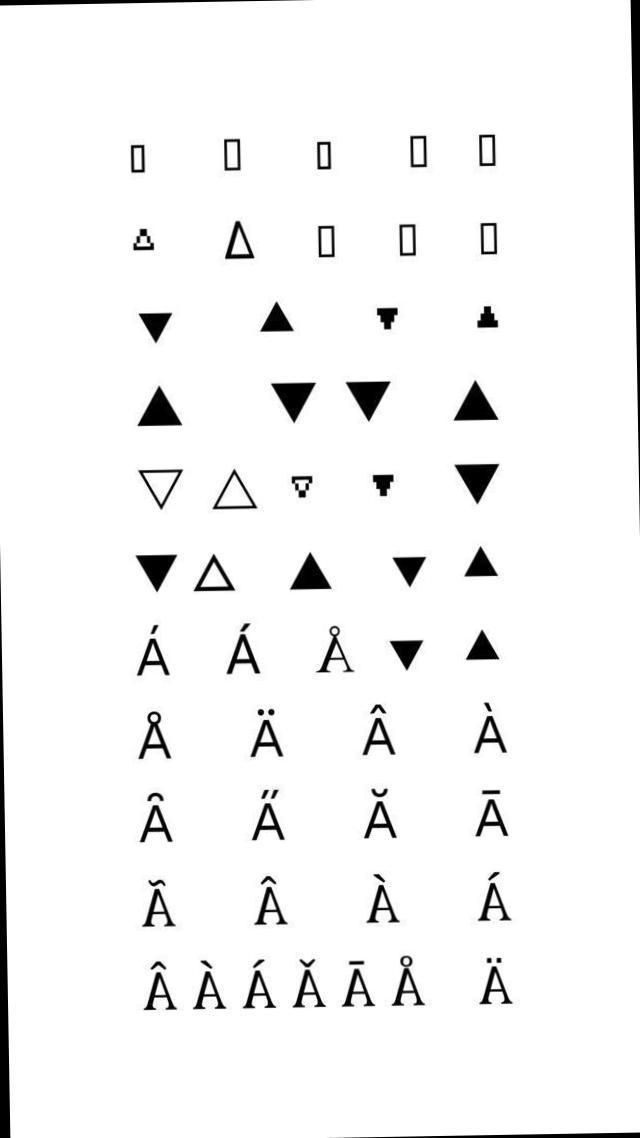ASCII: (263, 370, 324, 432), (357, 699, 413, 765), (338, 370, 397, 430), (219, 616, 270, 684), (133, 377, 193, 434), (466, 783, 522, 844), (467, 696, 519, 761), (474, 942, 522, 1012), (445, 456, 507, 509), (310, 622, 363, 684), (354, 782, 402, 850), (448, 377, 512, 427), (242, 700, 290, 766), (132, 874, 183, 935), (132, 783, 178, 850), (131, 703, 179, 767), (238, 953, 285, 1018), (210, 461, 262, 519), (128, 620, 174, 685), (249, 871, 296, 933), (248, 784, 292, 850), (130, 544, 183, 598), (475, 862, 517, 930), (128, 298, 178, 354), (359, 869, 404, 931), (137, 953, 179, 1018), (189, 950, 229, 1018), (289, 952, 332, 1014), (284, 550, 334, 602), (133, 464, 186, 512), (386, 950, 428, 1010), (256, 292, 298, 348), (339, 954, 378, 1014), (214, 218, 260, 268), (456, 542, 506, 588), (193, 554, 243, 598), (470, 120, 507, 177), (469, 212, 506, 266), (461, 626, 506, 670), (386, 544, 430, 588), (124, 218, 162, 260), (386, 630, 424, 672), (390, 216, 422, 264), (217, 130, 247, 181), (364, 464, 402, 504), (468, 297, 504, 338), (122, 134, 153, 181), (310, 217, 339, 266), (401, 130, 431, 174), (371, 299, 404, 337), (309, 137, 339, 178), (282, 470, 320, 502)
